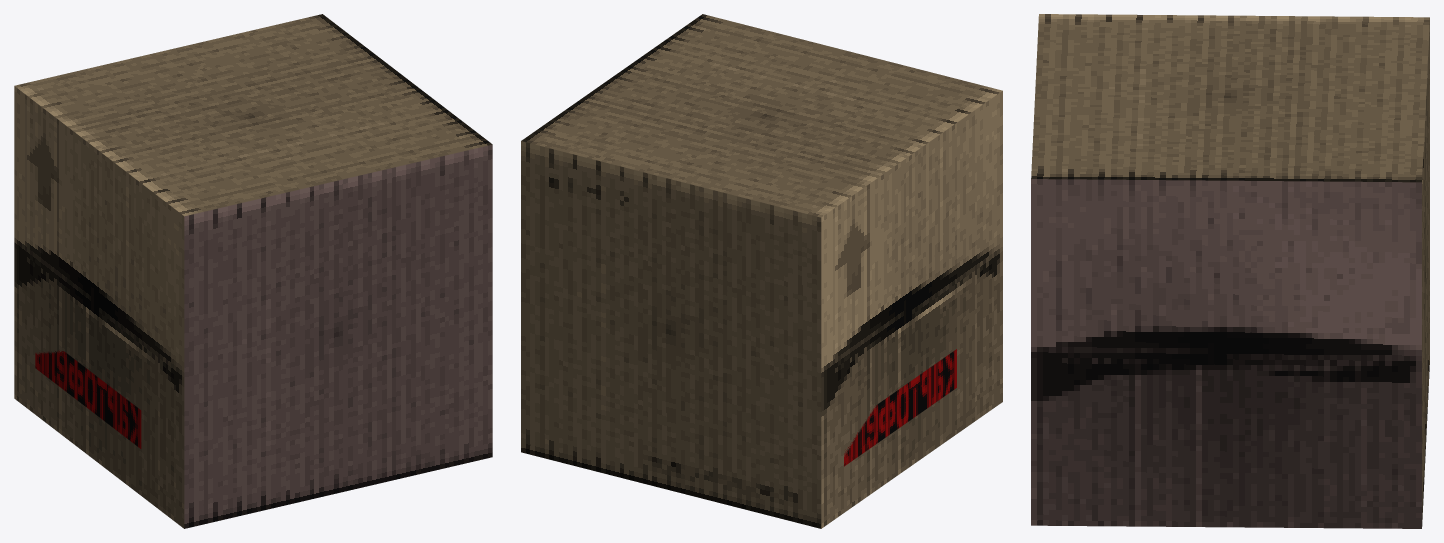
File: primary_100.glb
3 views of the same model, side by side, from view 1: azimuth 30°, elevation 25°; view 2: azimuth 150°, elevation 25°; view 3: azimuth 270°, elevation 25° (orthographic). The views are drawn at different scales.
Visible parts, largest first — view 1: Object; view 2: Object; view 3: Object.
Part boxes in pixels (x1=…): Object: x1=14, y1=14, x2=492, y2=528; Object: x1=521, y1=14, x2=1002, y2=528; Object: x1=1031, y1=14, x2=1429, y2=528.
Bounding box in the file's own units: 1.12 × 1.07 × 1.12.
7 materials, 7 textured.
